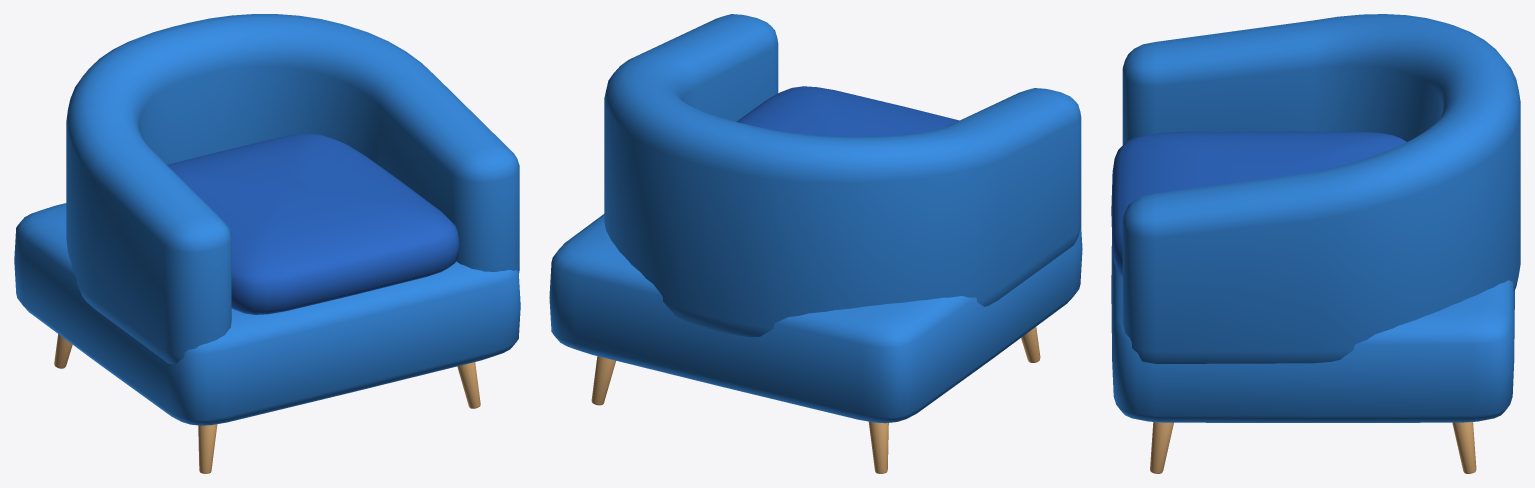
The model's file is poltrona_barril_azul.glb.
3 views of the same model, side by side, from view 1: azimuth 30°, elevation 25°; view 2: azimuth 150°, elevation 25°; view 3: azimuth 270°, elevation 25° (orthographic). The views are drawn at different scales.
Parts seen in each view (by area): view 1: poltrona_barril_azul; view 2: poltrona_barril_azul; view 3: poltrona_barril_azul.
Boxes of the visible parts, box(x1,y1,x2,y2) form: poltrona_barril_azul: box(14, 14, 520, 473); poltrona_barril_azul: box(549, 14, 1082, 473); poltrona_barril_azul: box(1111, 14, 1520, 473).
Size of the model in its own units: 0.78 by 0.6395 by 0.73.
Materials: 1 (1 with a texture image).
